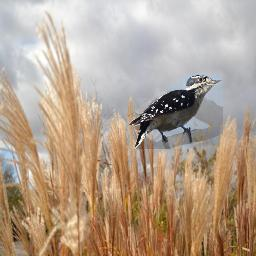Woodpecker: (127, 74, 223, 149)
